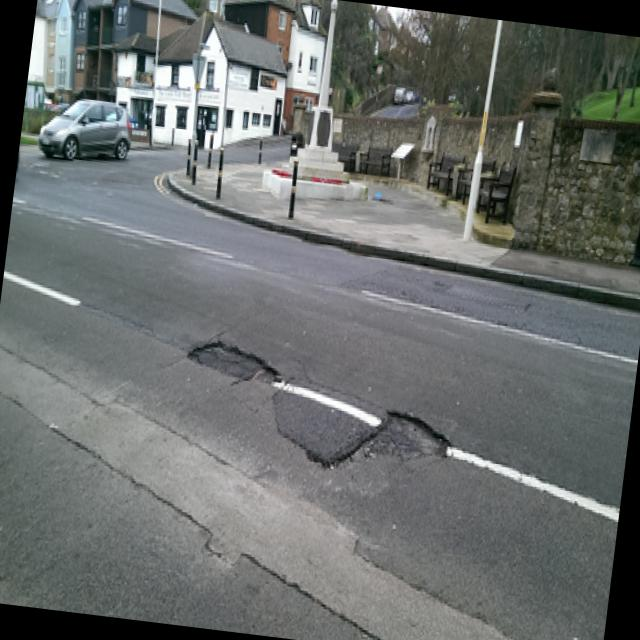Potholes: (175, 304, 464, 510)
